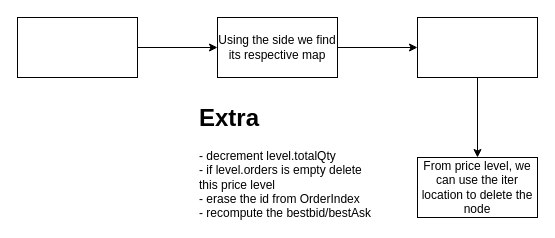
Some shapes in this 555 by 238 pixel diagram are drawn without their labels. Each missing label, with the box of its shape:
then using the price we find its price level: (416, 16, 538, 78)
We have the: price, side and iter: (16, 16, 138, 78)
